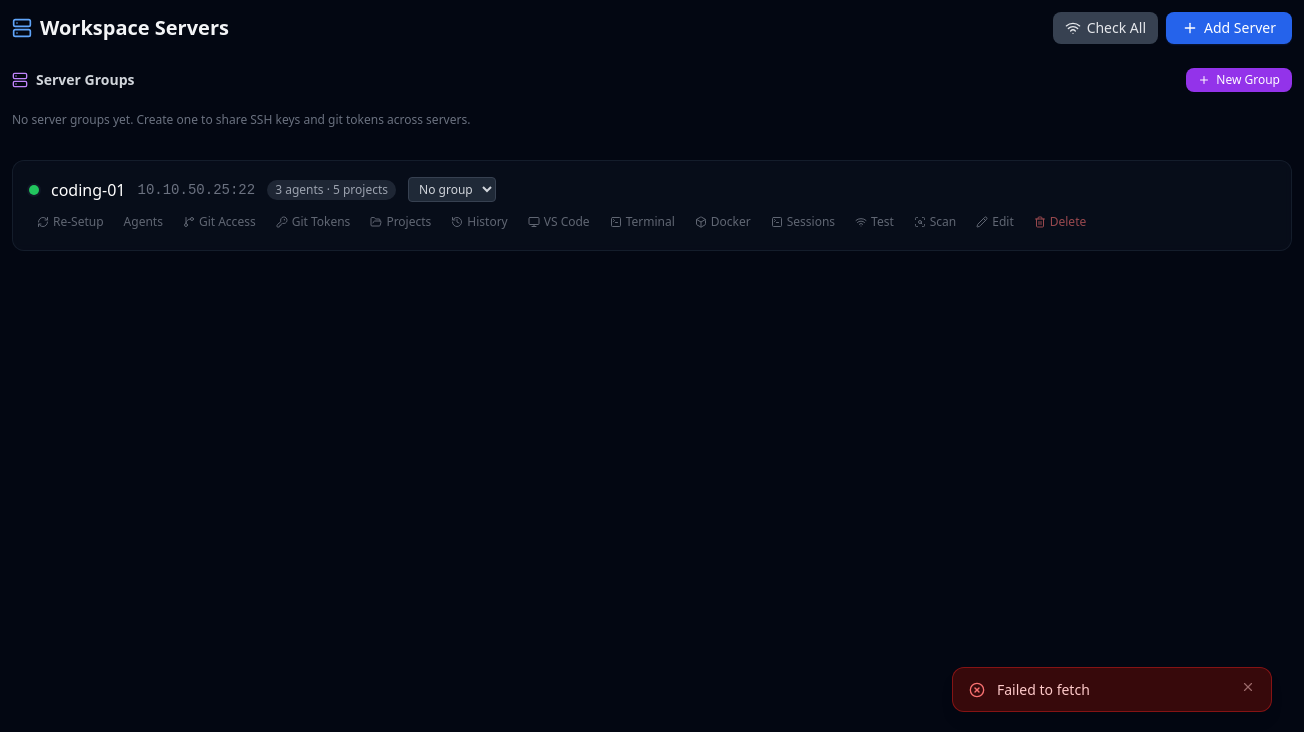
WorkspaceServers › shows deploy key prompt when SSH test fails
Expected: the text "coding-01" is shown, [51,178,126,202]
Click the button "Test".
click(874, 222)  # box [847,210,902,234]
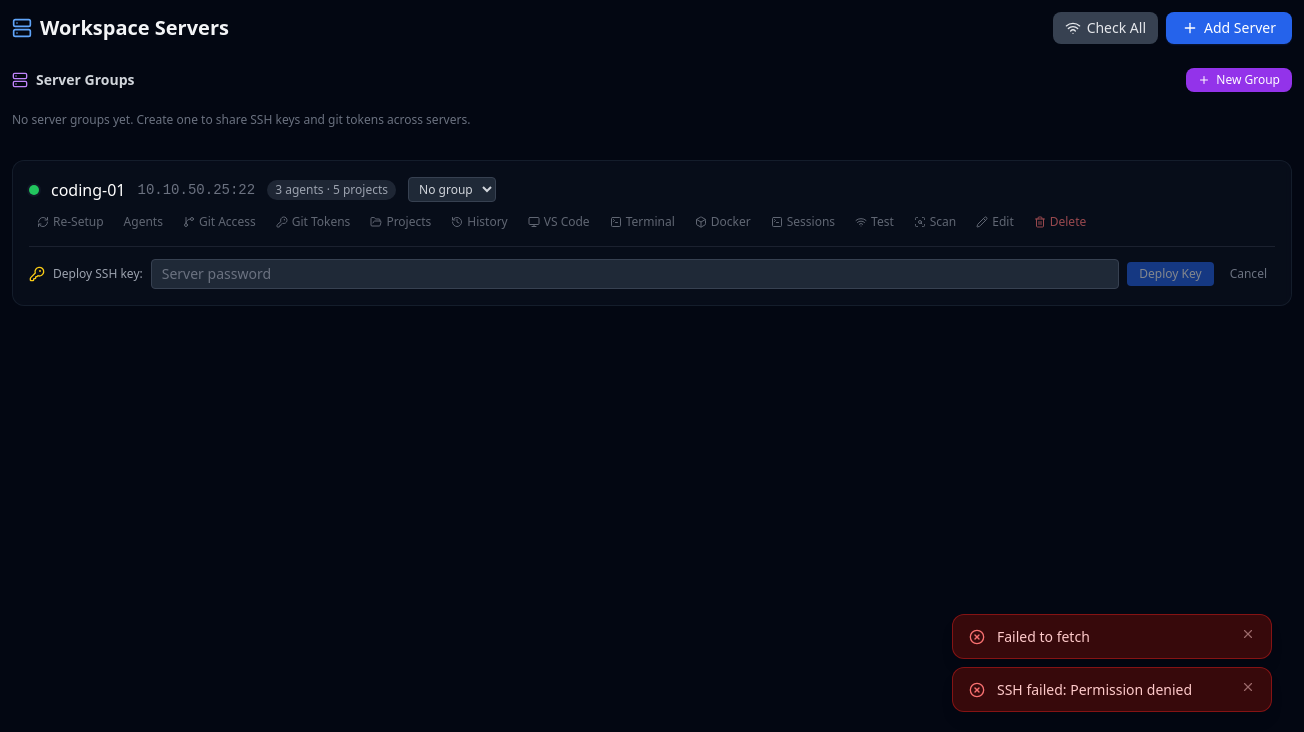
Now the password field with placeholder "Server password" is shown, box [151,259,1119,289]
Now the button "Deploy Key" is shown, box [1127,262,1214,286]
